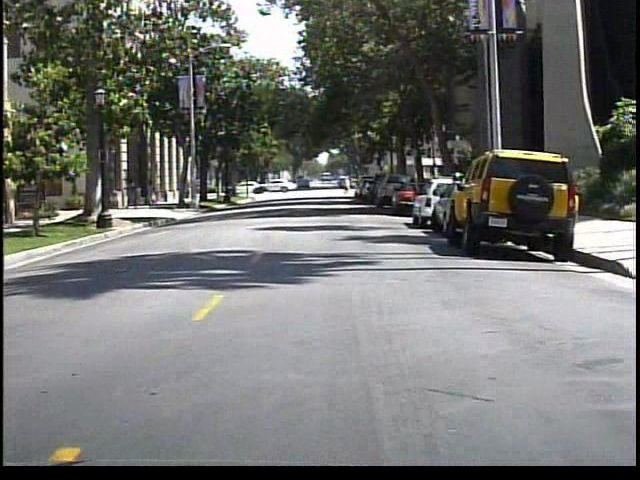person: (124, 175, 144, 210), (142, 177, 162, 210), (342, 173, 357, 195)
